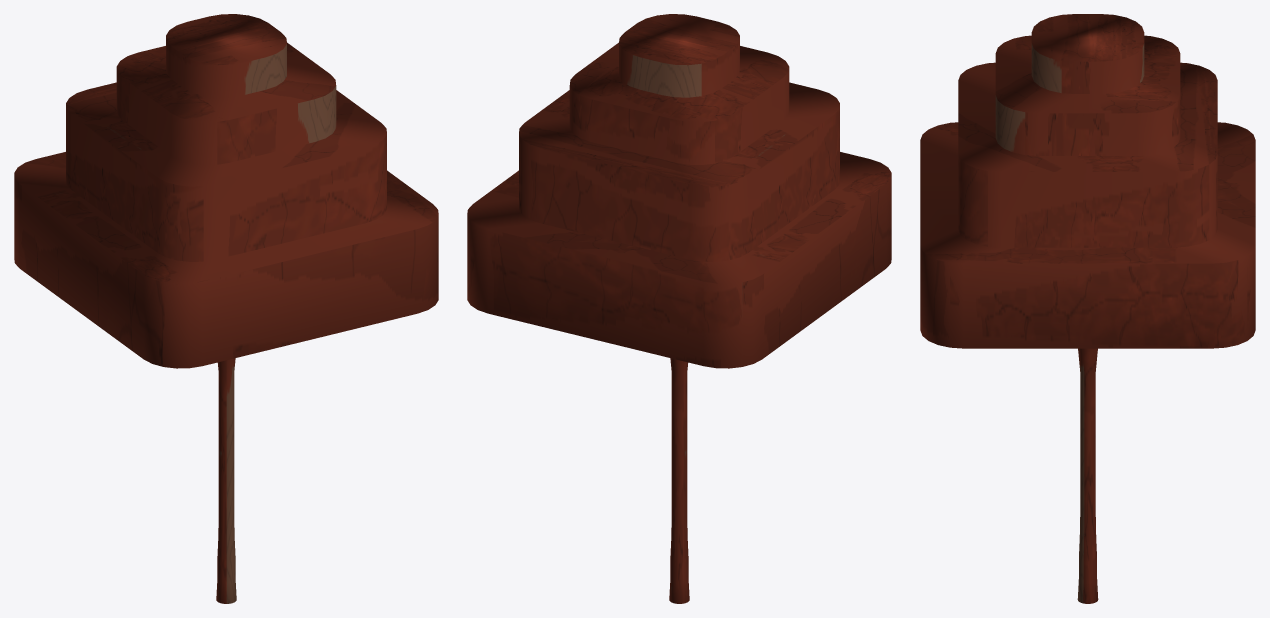
The model's file is m_tree6.fbx.
3 views of the same model, side by side, from view 1: azimuth 30°, elevation 25°; view 2: azimuth 150°, elevation 25°; view 3: azimuth 270°, elevation 25° (orthographic).
Visible parts, largest first — view 1: Tree; view 2: Tree; view 3: Tree.
Part boxes in pixels (x1,y1,x2,y2): Tree: (14, 14, 438, 603); Tree: (467, 14, 891, 603); Tree: (920, 14, 1255, 603).
Size of the model in its own units: 3.29 by 6.08 by 3.29.
